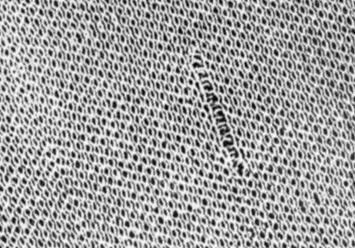slub: (184, 39, 253, 180)
